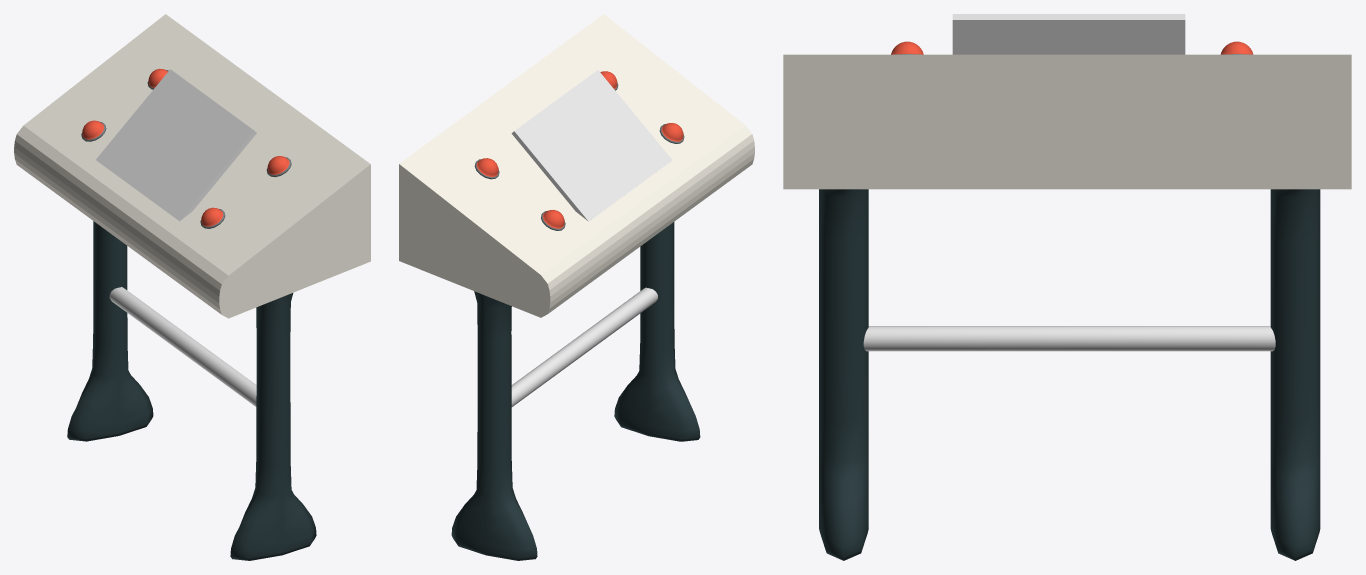
File: Panel.fbx
The picture shows the model from 3 angles, left to right: view 1: azimuth 30°, elevation 25°; view 2: azimuth 150°, elevation 25°; view 3: azimuth 270°, elevation 25°; orthographic projection. The views are drawn at different scales.
Parts seen in each view (by area): view 1: Cube, Cube.001, Pata2.001, Pata2, Cylinder.004; view 2: Cube, Cube.001, Pata2, Pata2.001, Cylinder.004; view 3: Cube, Pata2, Pata2.001, Cylinder.004, Cube.001.
Part boxes in pixels (x1=…): Cube: x1=14, y1=14, x2=370, y2=318; Cube.001: x1=96, y1=69, x2=256, y2=221; Pata2.001: x1=230, y1=293, x2=316, y2=560; Pata2: x1=67, y1=221, x2=153, y2=441; Cylinder.004: x1=109, y1=287, x2=256, y2=406; Cube: x1=399, y1=14, x2=754, y2=317; Cube.001: x1=511, y1=70, x2=672, y2=221; Pata2: x1=451, y1=291, x2=537, y2=560; Pata2.001: x1=614, y1=222, x2=700, y2=441; Cylinder.004: x1=511, y1=287, x2=657, y2=406; Cube: x1=783, y1=54, x2=1351, y2=189; Pata2: x1=1270, y1=189, x2=1320, y2=560; Pata2.001: x1=819, y1=189, x2=868, y2=560; Cylinder.004: x1=863, y1=326, x2=1275, y2=351; Cube.001: x1=952, y1=14, x2=1185, y2=54.
Size of the model in its own units: 208 by 506 by 488.
